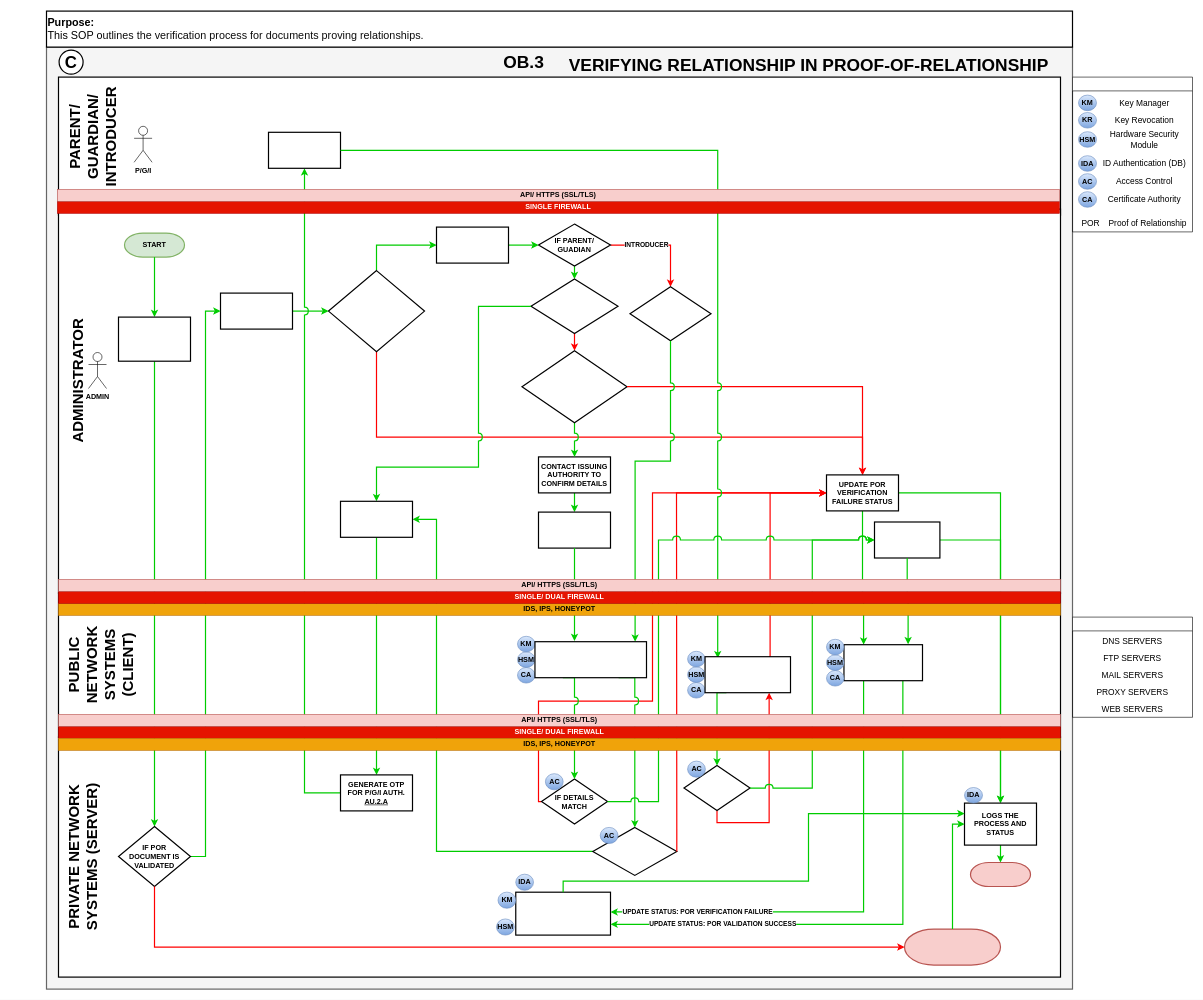
This 1203x1000 diagram has some shape labels left out. The shapes that lost their labels are listed below. From the top down, each one's box as (x1, y1, x2, y2) in pixels, then its label:
(268, 131, 341, 169): AUTH. USING OTP: AU.2.C
(1072, 76, 1192, 232): LEGEND
(436, 226, 509, 263): CHECK TYPE OF RELATIONSHIP DECLARED
(220, 292, 293, 329): VERIFY APPLICANT NAME
(328, 270, 425, 352): IF APPLICANT NAME & PRIMARY SUBJECT NAME IN POR MATCH
(530, 278, 618, 334): IF PARENT/ GUADIAN UIN PROVIDED
(629, 286, 711, 341): IF INTRODUCER UIN PROVIDED
(118, 316, 191, 362): ACCESS RID ACCOUNT FOR POR VALIDATION STATUS
(521, 350, 627, 423): IF POR DOCUMENT HAS REFERENCE NUMBER AND PARENT/ GUADIAN NAME
(340, 500, 413, 538): INITIATE OTP SELF VERIFICATION FOR P/G/I
(538, 511, 611, 548): RECEIVE REPORT OF CONFIRMATION OF DETAILS
(874, 521, 940, 558): UPDATE POR VERIFIED STATUS
(534, 641, 647, 678): MASK & ENCRYPT POR AND P/G/I DETAILS
(704, 656, 791, 693): MASK & ENCRYPT OTP AUTH. STATUS
(843, 644, 923, 681): MASK & ENCRYPT POR VERIFICATION STATUS
(1072, 616, 1192, 717): PUBLIC NETWORK
(683, 765, 750, 811): IF AUTH. SUCCESS
(592, 826, 677, 876): IF AN AUTHORISED INTRODUCER
(970, 862, 1031, 887): END
(515, 891, 611, 935): STORE POR VERIFICATION STATUS IN RID ACCOUNT
(904, 928, 1001, 965): TERMINATE PROCESS
